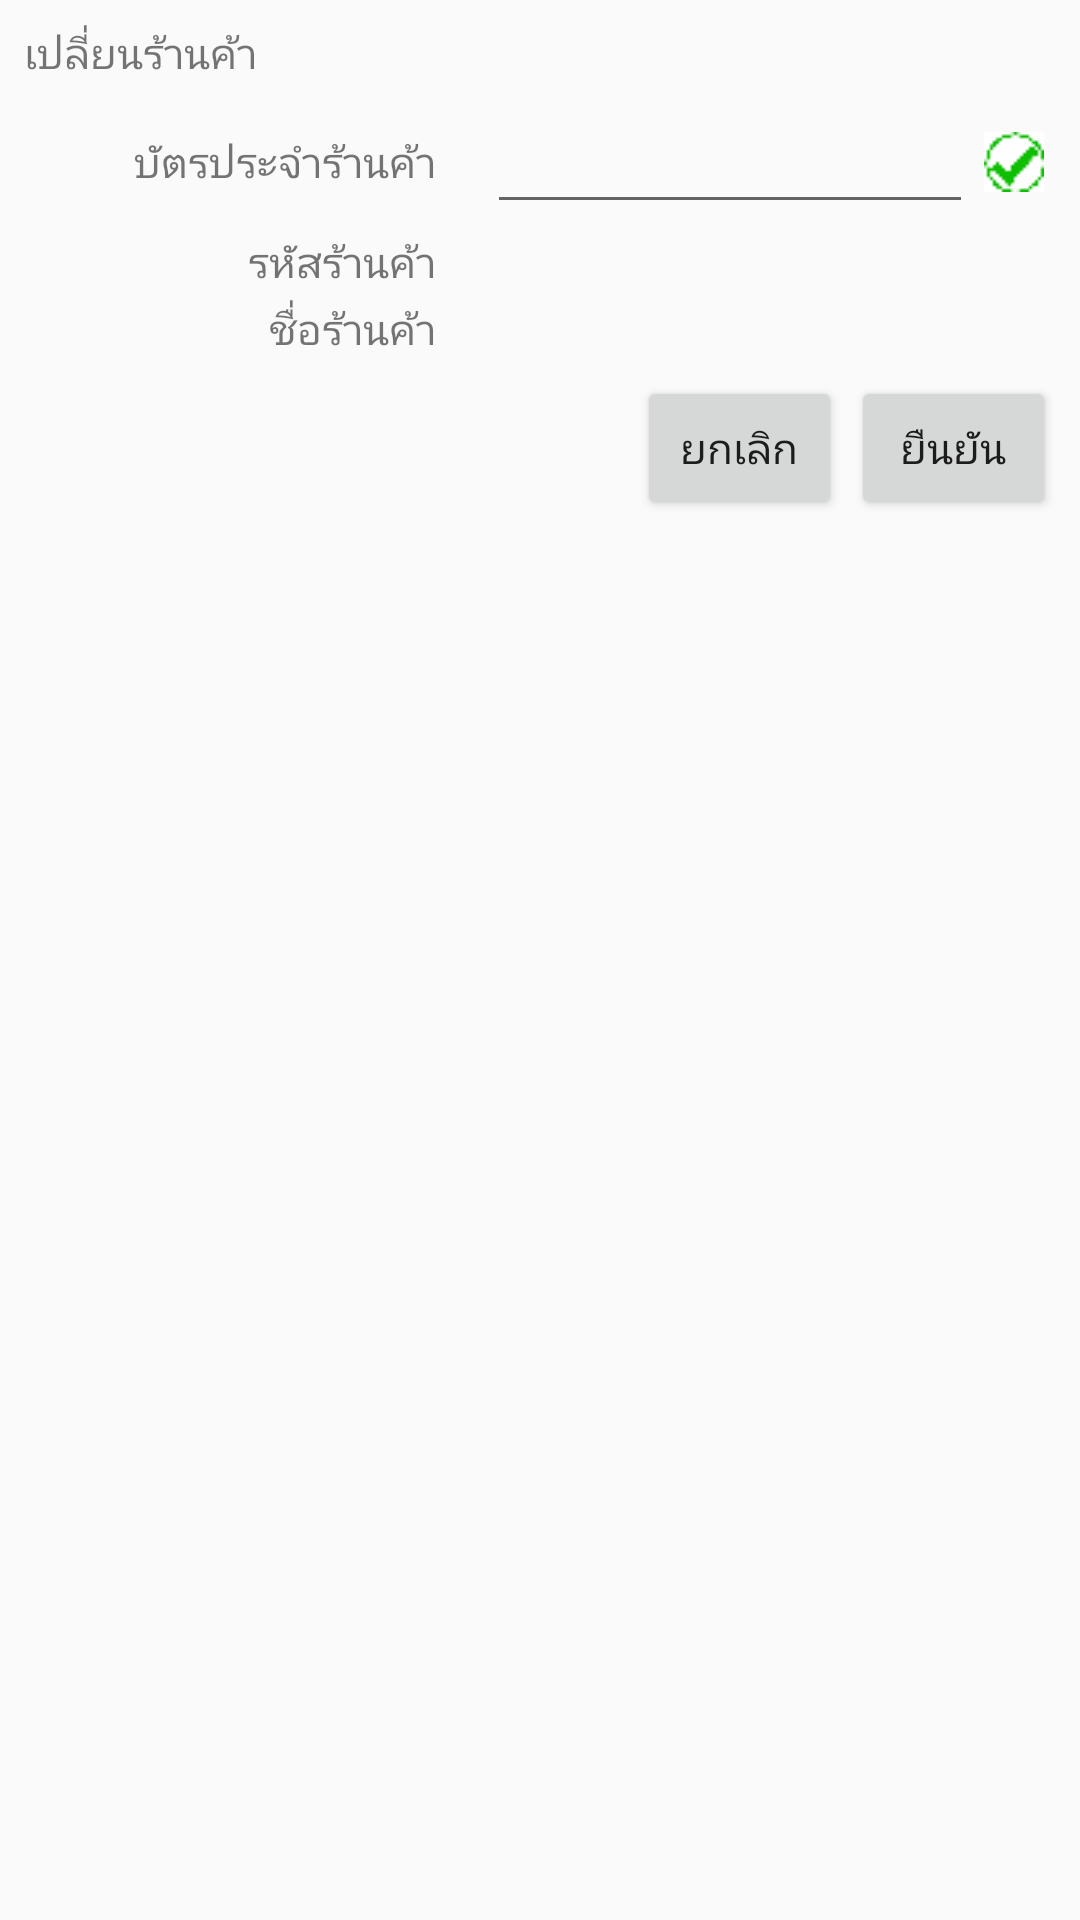

Point at icon controls on the screen. Image size 1080px x 1920px, points as (x=x, y=y).
check: (x=1014, y=162)
